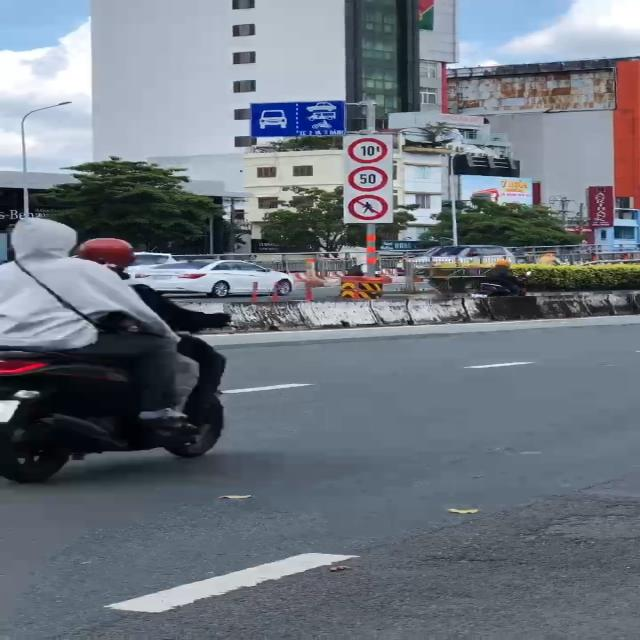Bien bao cam nguoi di bo: (346, 193, 391, 222)
Bien bao toc do toi da cho phep: (344, 164, 393, 193)
